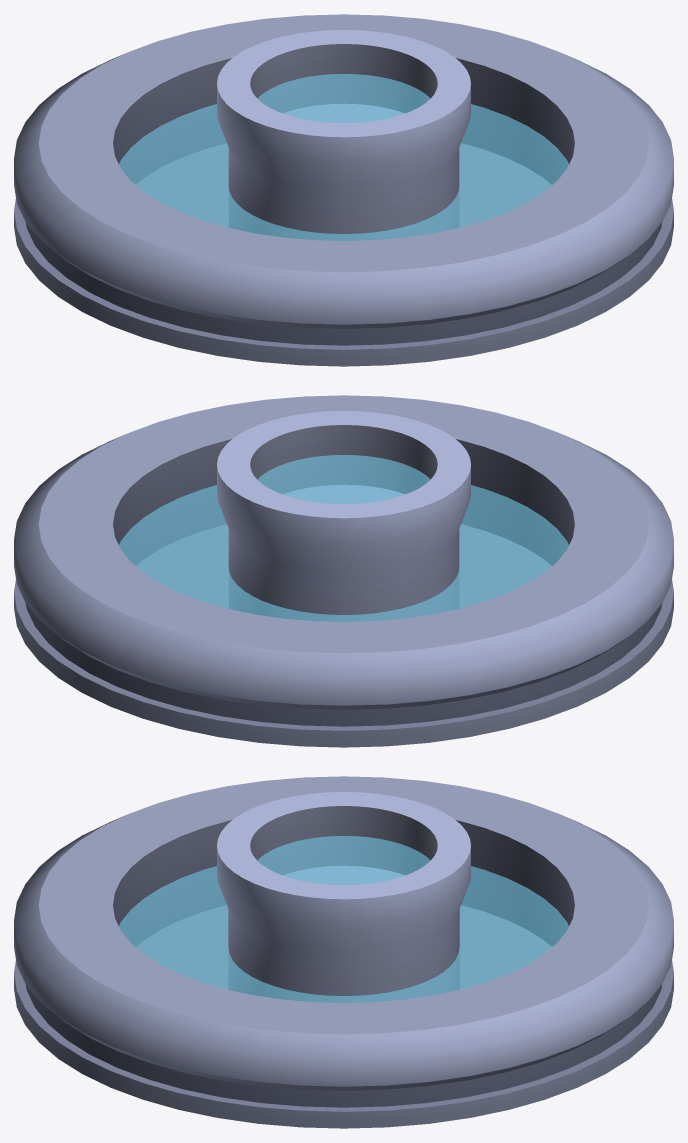
Rendered from fontaine.glb.
3 renders of one model, top to bottom at view 1: azimuth 30°, elevation 25°; view 2: azimuth 150°, elevation 25°; view 3: azimuth 270°, elevation 25°, orthographic.
Parts seen in each view (by area): view 1: fountain-round-detail, (%ignore); view 2: fountain-round-detail, (%ignore); view 3: fountain-round-detail, (%ignore).
Boxes of the visible parts, x1,y1,x2,y2 form: fountain-round-detail: [14, 14, 673, 366]; (%ignore): [119, 74, 568, 240]; fountain-round-detail: [14, 395, 673, 747]; (%ignore): [119, 455, 568, 621]; fountain-round-detail: [14, 776, 673, 1128]; (%ignore): [119, 836, 568, 1002].
Size of the model in its own units: 6 by 1.44 by 6.
2 materials, 1 textured.
